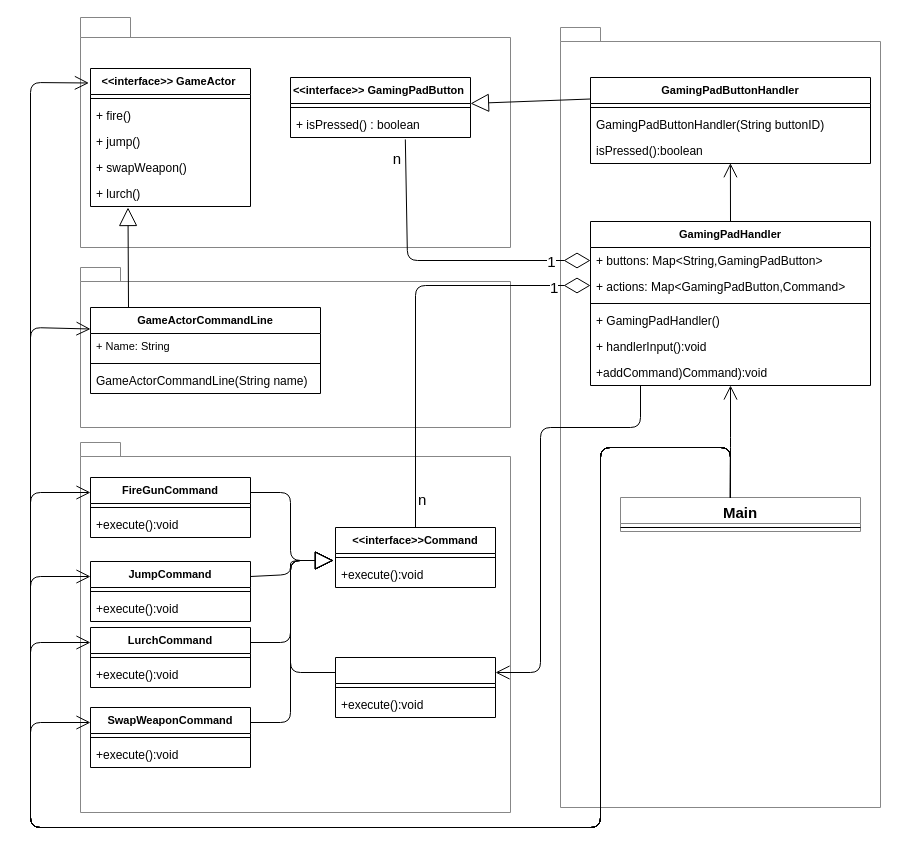
This 898x859 diagram has some shape labels left out. Each missing label, with the box of its shape:
kata2_command.app: (560, 26, 880, 808)
kata2_command.controller: (80, 442, 510, 812)
kata2_command.Model: (80, 16, 510, 248)
kata2_command.view: (80, 266, 510, 428)
NullCommand: (334, 656, 496, 718)
